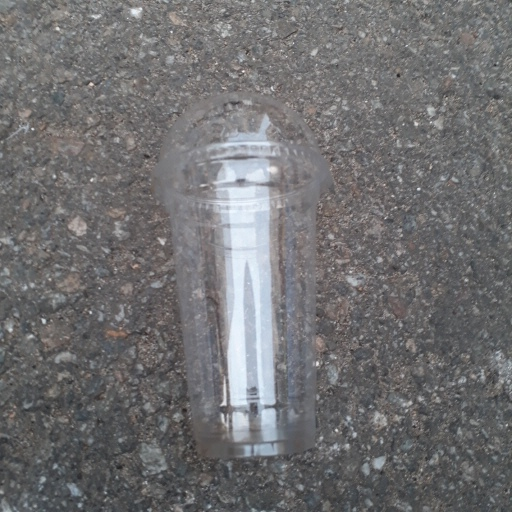Plastic_2: (158, 89, 327, 462)
